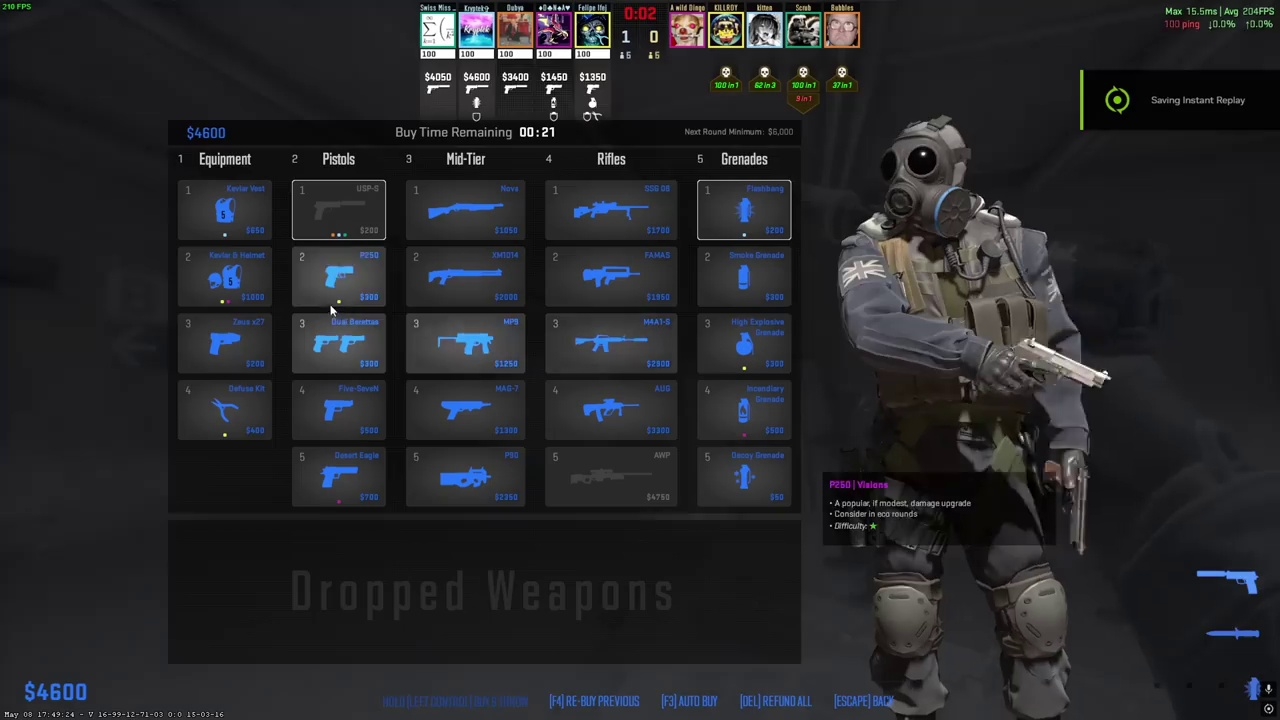CT: (849, 120, 1076, 720)
